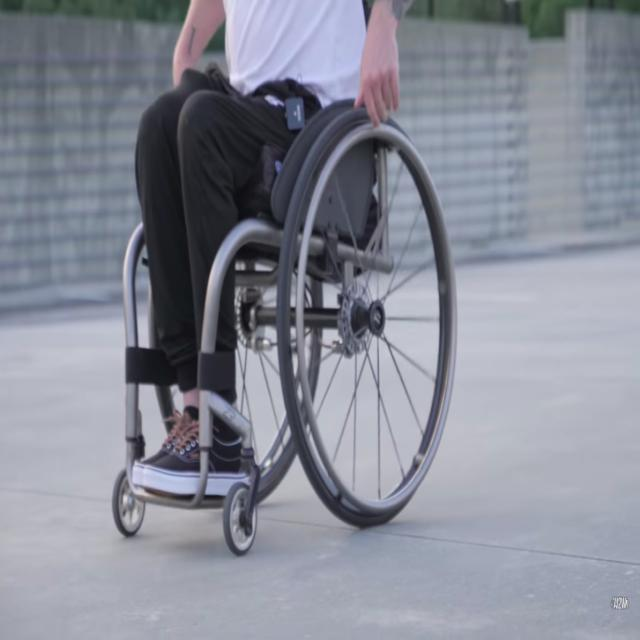wheelchairs: (114, 49, 460, 554)
